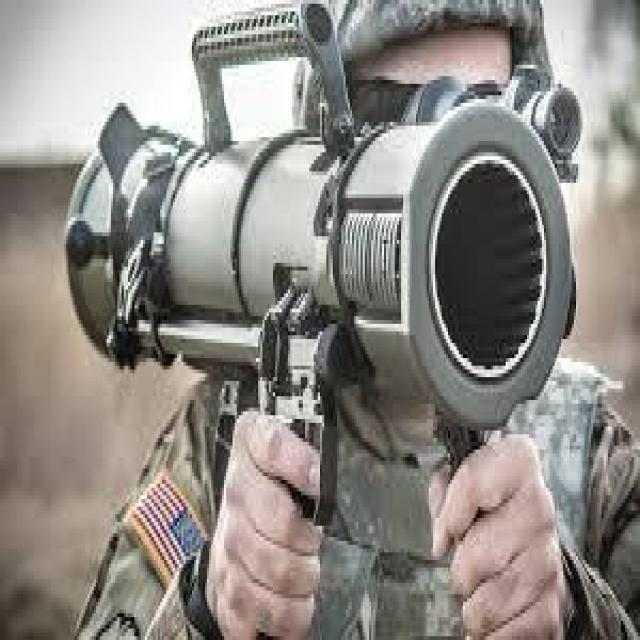bazooka: (61, 1, 586, 462)
